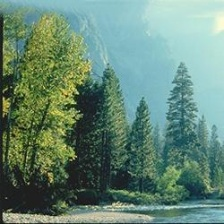neutral: (5, 1, 222, 222)
